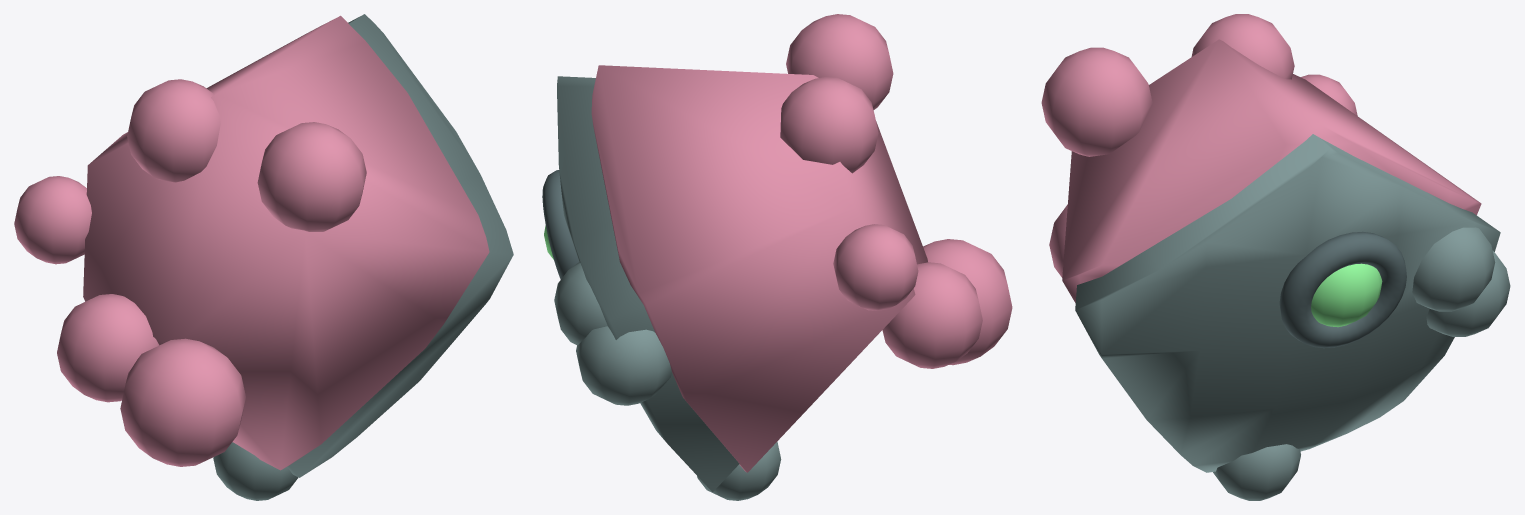
The model's file is chunk19.glb.
3 renders of one model, left to right at view 1: azimuth 30°, elevation 25°; view 2: azimuth 150°, elevation 25°; view 3: azimuth 270°, elevation 25°, orthographic.
Visible parts, largest first — view 1: flesh, skin; view 2: flesh, skin, lip; view 3: skin, flesh, lip, glow.
Boxes of the visible parts, x1,y1,x2,y2 form: flesh: (14, 15, 489, 470); skin: (213, 14, 513, 500); flesh: (591, 14, 1012, 472); skin: (554, 76, 781, 500); lip: (542, 170, 578, 279); skin: (1075, 134, 1510, 500); flesh: (1041, 14, 1481, 302); lip: (1279, 231, 1406, 348); glow: (1311, 263, 1382, 327).
Bounding box in the file's own units: 0.7622 × 0.8133 × 0.7919.
